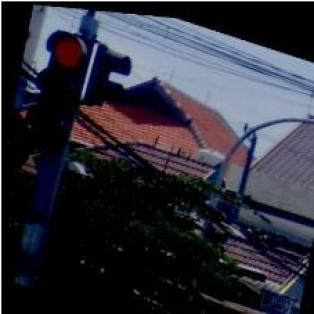Semaforo Rojo: (18, 21, 95, 151)
